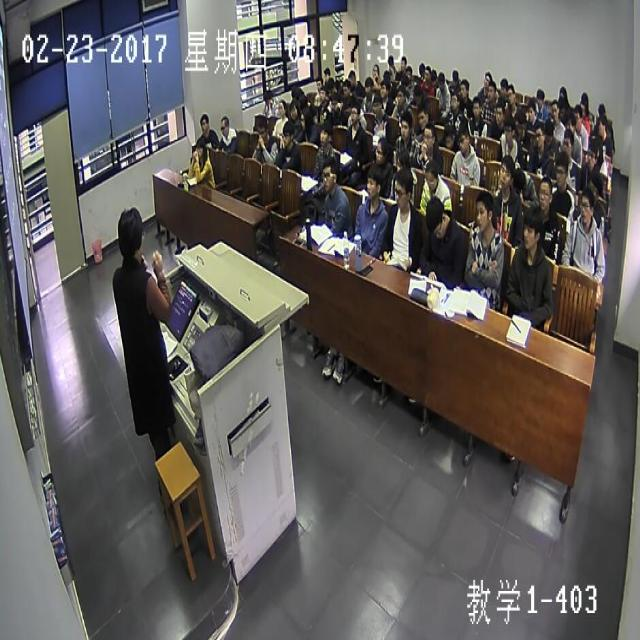person: (114, 202, 144, 262), (425, 198, 450, 245), (519, 208, 542, 249), (475, 190, 492, 233), (363, 162, 381, 202), (579, 185, 595, 229), (320, 156, 338, 195), (394, 167, 411, 208), (554, 151, 571, 190), (536, 172, 553, 211), (498, 154, 515, 189), (424, 159, 440, 189), (374, 137, 389, 168), (192, 134, 207, 164), (585, 174, 600, 204), (456, 125, 470, 157), (253, 113, 268, 142), (298, 104, 313, 132), (394, 144, 409, 172), (398, 109, 411, 141), (513, 166, 526, 196), (442, 124, 455, 151), (280, 121, 294, 146), (218, 112, 231, 137), (319, 123, 332, 148), (501, 115, 513, 142), (199, 110, 211, 136), (422, 122, 434, 148), (514, 110, 526, 135), (560, 130, 573, 153), (274, 96, 286, 120), (286, 94, 298, 118), (586, 141, 596, 169), (417, 107, 429, 130), (596, 113, 608, 136), (412, 84, 425, 105), (263, 86, 274, 110), (378, 77, 389, 101), (394, 87, 406, 108), (544, 118, 553, 146), (534, 122, 544, 147), (470, 93, 480, 117), (565, 110, 575, 134), (579, 92, 588, 118), (481, 65, 491, 88), (372, 93, 382, 115), (459, 75, 469, 97), (448, 87, 458, 109), (548, 100, 558, 122), (350, 101, 359, 125), (298, 88, 308, 109), (486, 80, 496, 100), (493, 103, 502, 125), (526, 99, 534, 123), (574, 104, 582, 128), (329, 93, 339, 112), (363, 74, 372, 95), (437, 70, 446, 91), (506, 84, 515, 105), (500, 75, 508, 97), (342, 78, 351, 97), (450, 67, 458, 87), (559, 83, 567, 103), (598, 98, 606, 118), (398, 74, 409, 88), (535, 88, 544, 105), (314, 72, 322, 90), (348, 68, 356, 86), (319, 82, 326, 102), (404, 64, 414, 78), (291, 81, 299, 98), (418, 60, 426, 77), (327, 77, 335, 93), (372, 62, 380, 78), (382, 68, 391, 82), (559, 98, 566, 115), (386, 52, 394, 66), (423, 68, 430, 82), (431, 68, 438, 82), (324, 65, 331, 78), (401, 52, 406, 68)
